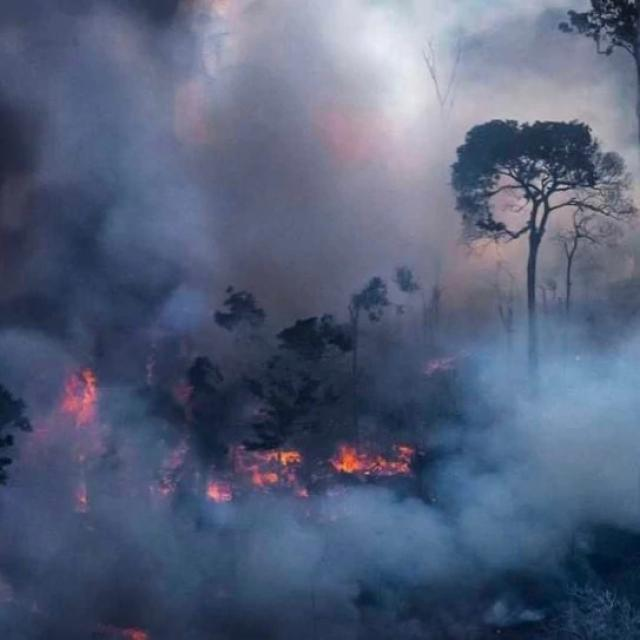Fire: (182, 392, 416, 504), (23, 367, 104, 472)
Smoke: (194, 4, 416, 386), (418, 304, 640, 638), (0, 0, 193, 368), (417, 0, 638, 302), (0, 490, 417, 640)
